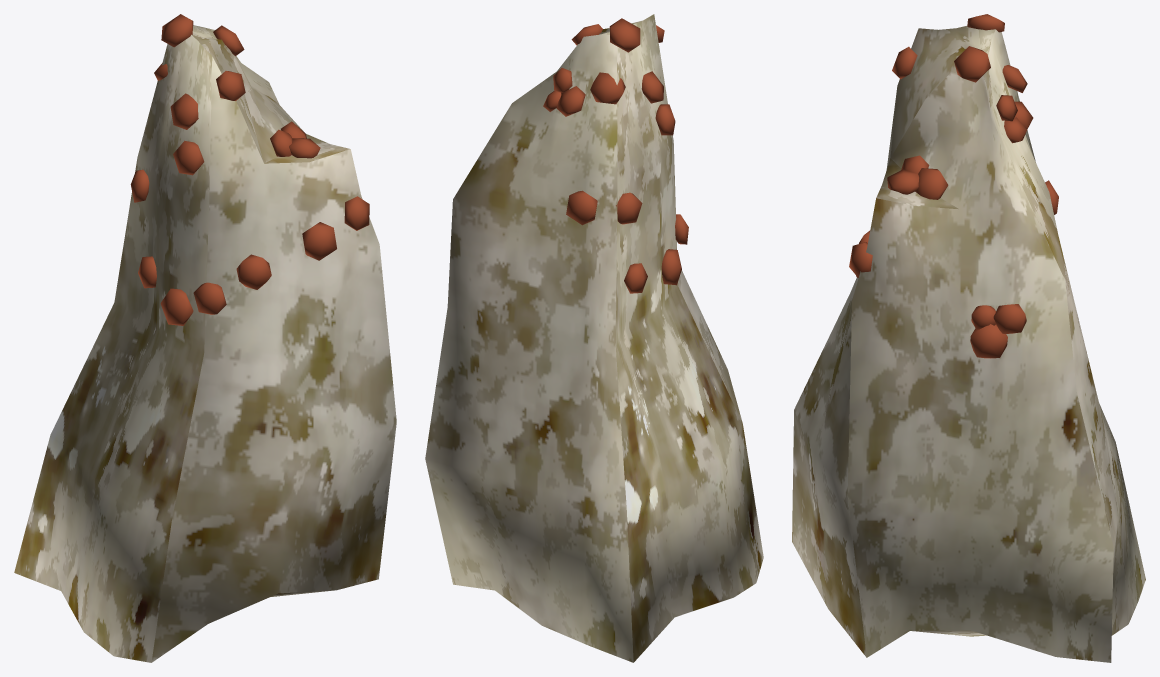
The model's file is Queen_Bone_1.fbx.
The picture shows the model from 3 angles, left to right: view 1: azimuth 30°, elevation 25°; view 2: azimuth 150°, elevation 25°; view 3: azimuth 270°, elevation 25°; orthographic projection. The views are drawn at different scales.
Visible parts, largest first — view 1: Queen_bone_1; view 2: Queen_bone_1; view 3: Queen_bone_1.
Part boxes in pixels (x1,y1,x2,y2): Queen_bone_1: (14,14,396,662); Queen_bone_1: (425,14,763,662); Queen_bone_1: (792,14,1145,662).
Size of the model in its own units: 89.67 by 188 by 98.7.
Materials: 2 (1 with a texture image).
